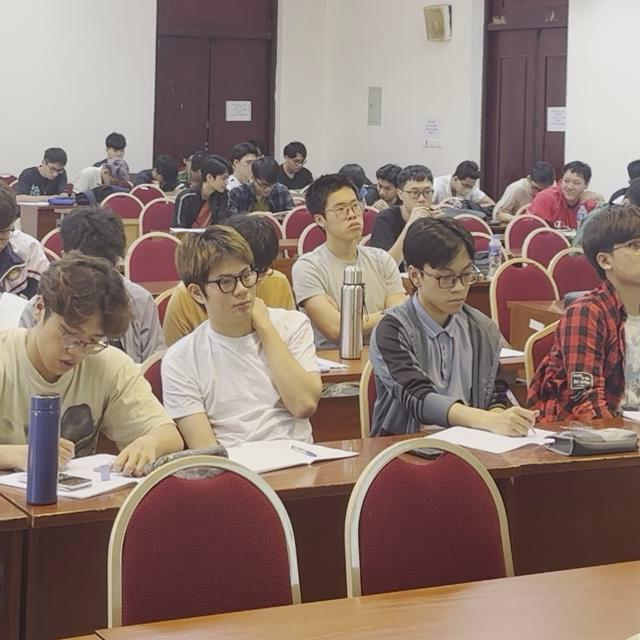Looking away: (39, 313, 109, 375), (427, 261, 472, 315), (561, 170, 586, 205), (253, 177, 282, 197), (377, 178, 400, 203), (454, 176, 477, 198), (213, 170, 230, 197), (527, 179, 551, 198), (44, 159, 63, 182), (285, 155, 308, 173), (104, 145, 126, 163)
Looking forward: (208, 258, 255, 328), (328, 188, 365, 243), (403, 179, 436, 216)
